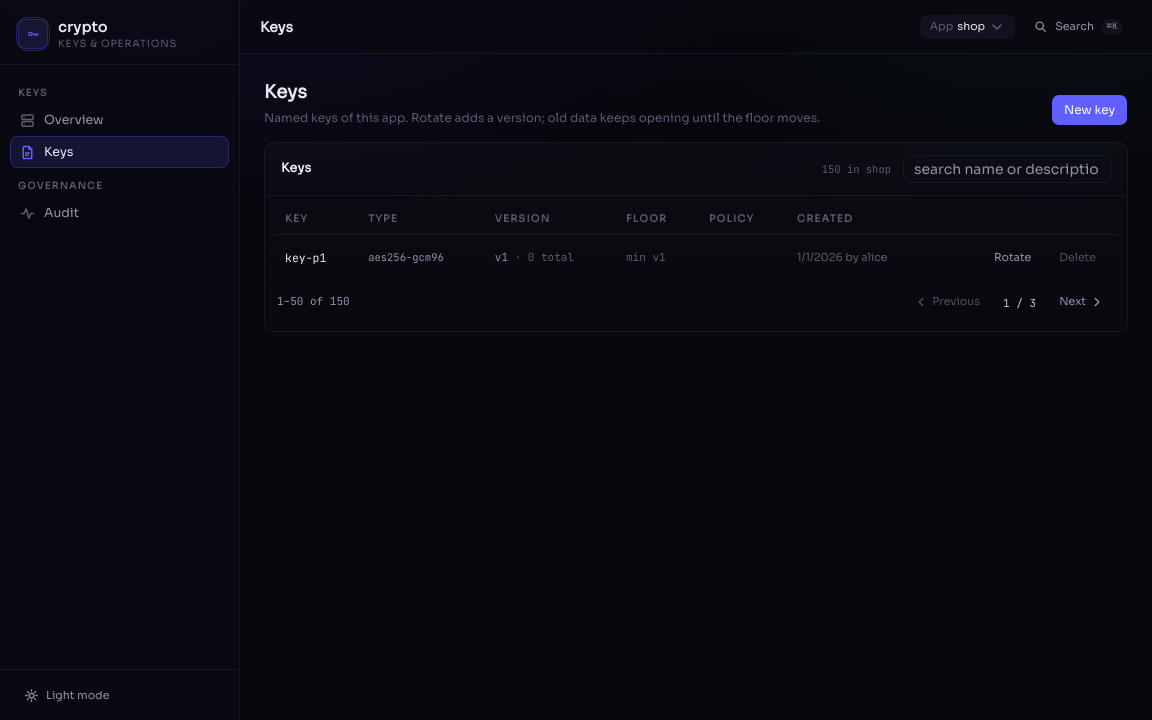
Test case: the crypto console: view state in the URL › the app pick is in the URL and survives a page change; the default leaves it
Later steps or results of the test are not shown.
Expected: the text "key-p1" is shown, [285,250,326,265]
Click the button "App shop". click: [968, 26]
box: [919,14,1016,40]
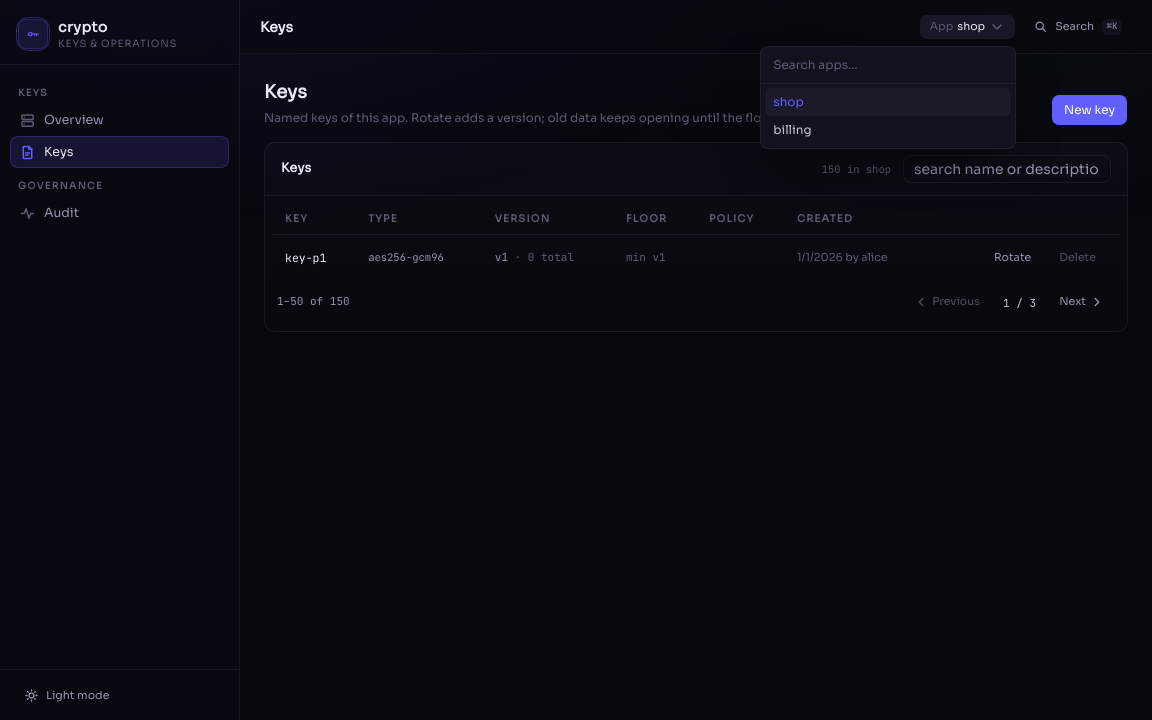
Type "bil" into the dropdown labelled "Search apps". click: [888, 65]
box: [761,46,1015,84]
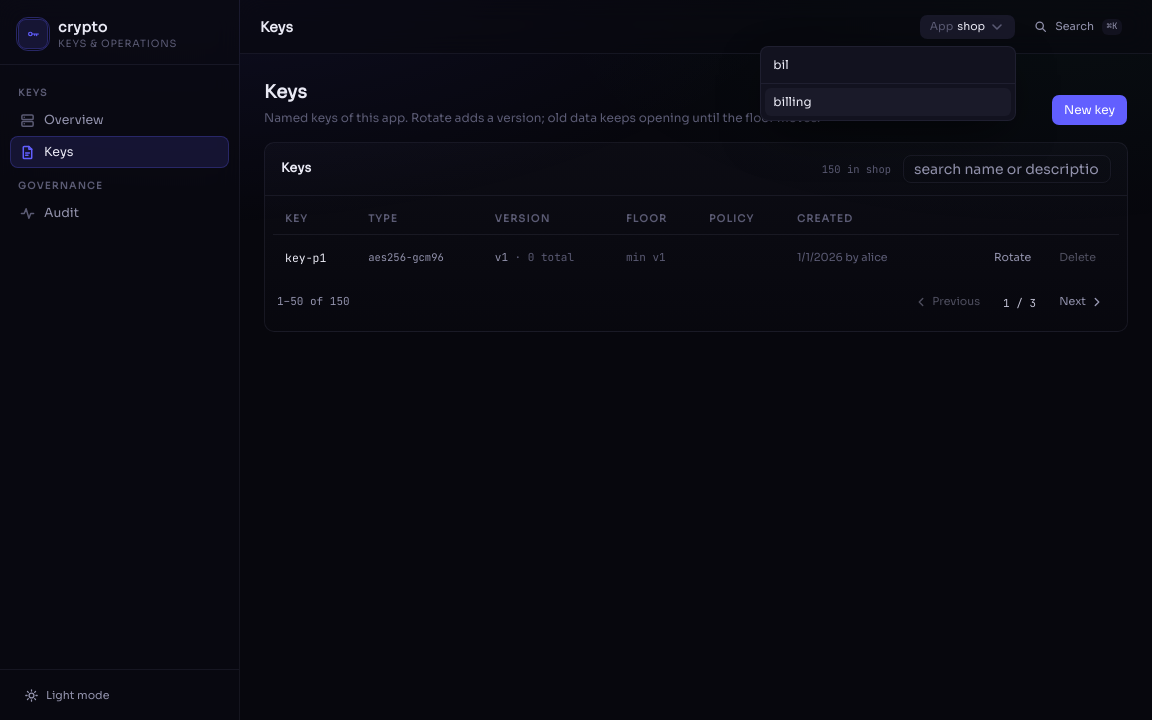
Press the mouse on the option "billing" at [888, 102], box [765,88,1011,116]
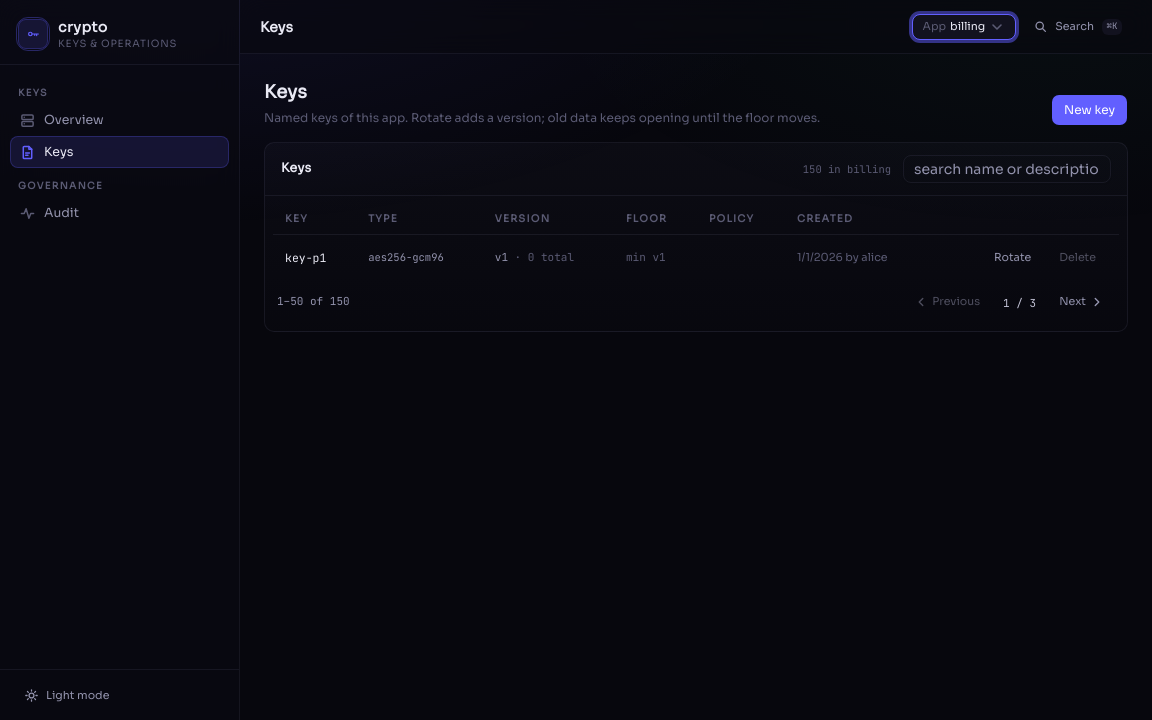
Expected: the text "billing" is shown, [950,19,985,34]
Click the link "Audit". click: [50, 213]
box: [20,205,79,221]
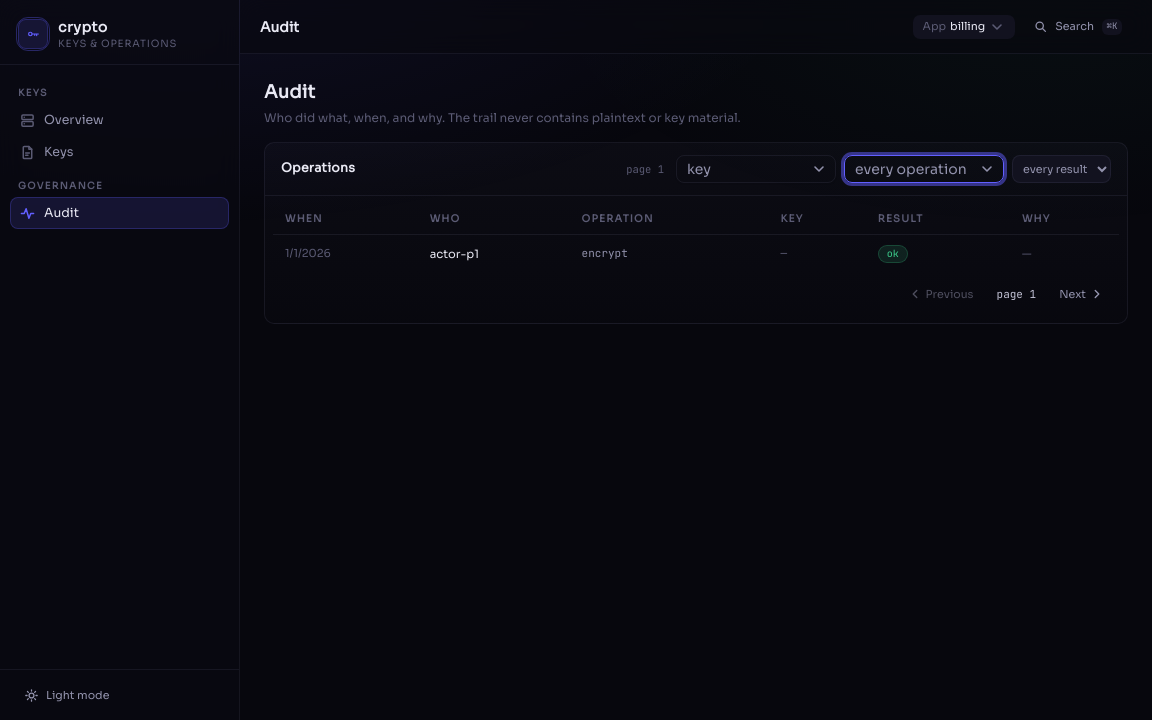
Expected: the dropdown labelled "operation" is shown
Press ArrowDown in the dropdown labelled "operation", box [845,151,975,187]
Type "decr" into the dropdown labelled "operation". click: [910, 169]
box: [845,151,975,187]
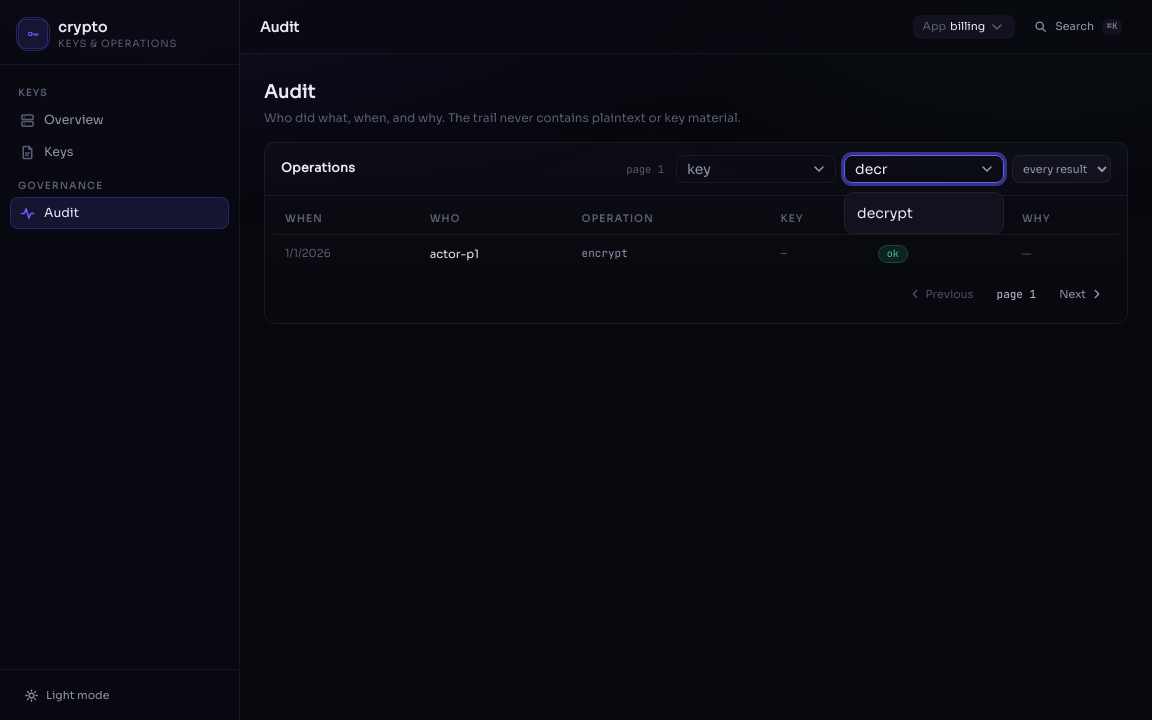
Click the option "decrypt". click: [885, 213]
box: [857,204,913,222]
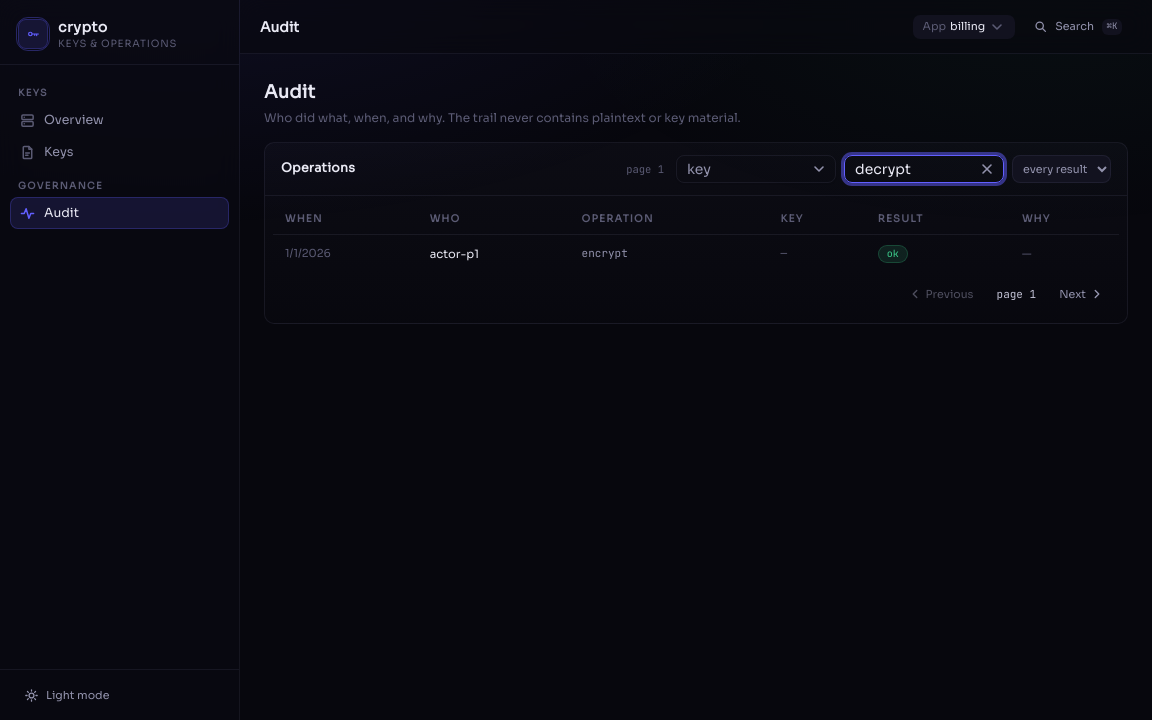
Expected: the text "billing" is shown, [950,19,985,34]
